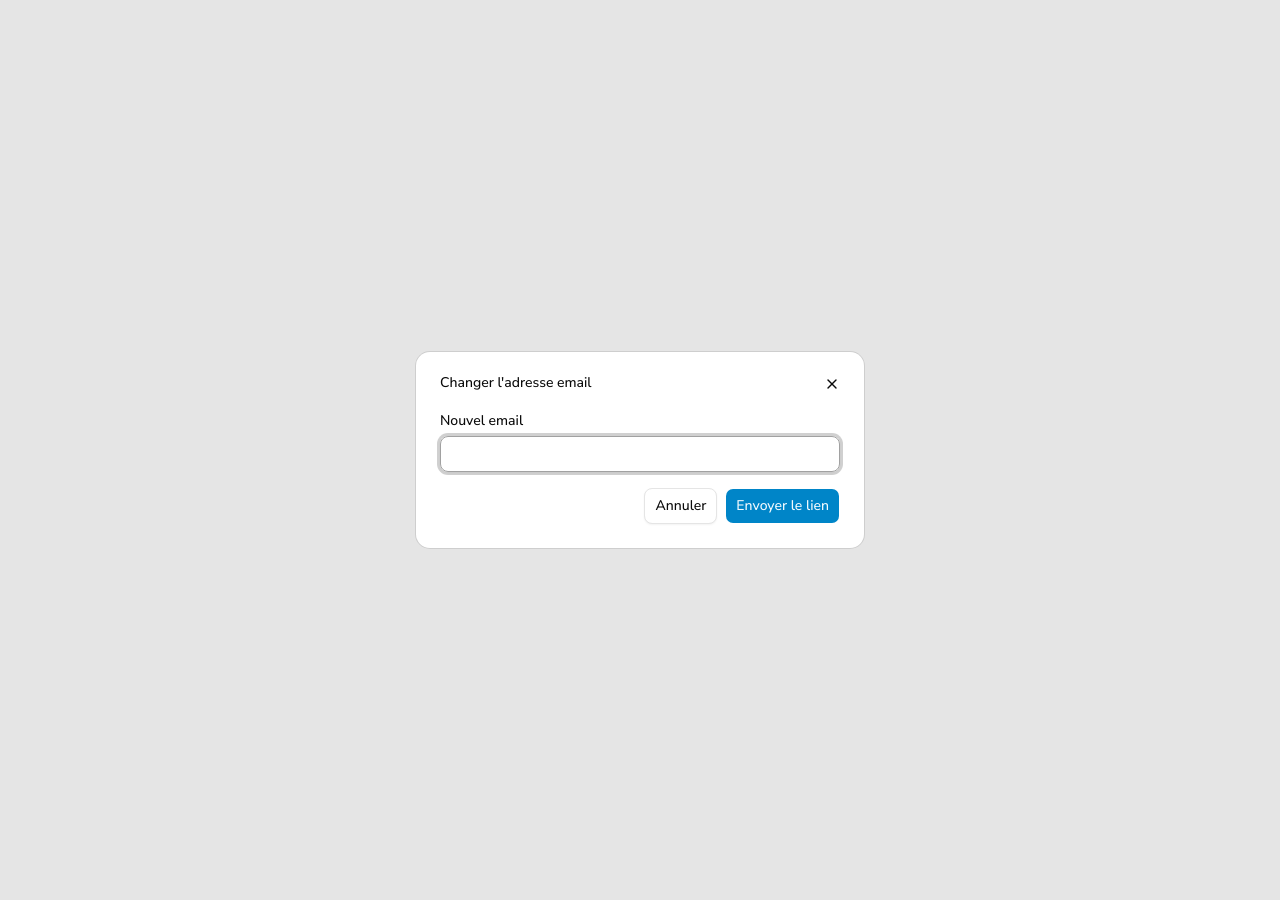
Test case: EditEmailDialog › appelle changeEmail et affiche le message de confirmation
Step 1. Type "nouveau@exemple.com" into the field labelled "Nouvel email" → (640, 454), box [440,436,840,472]
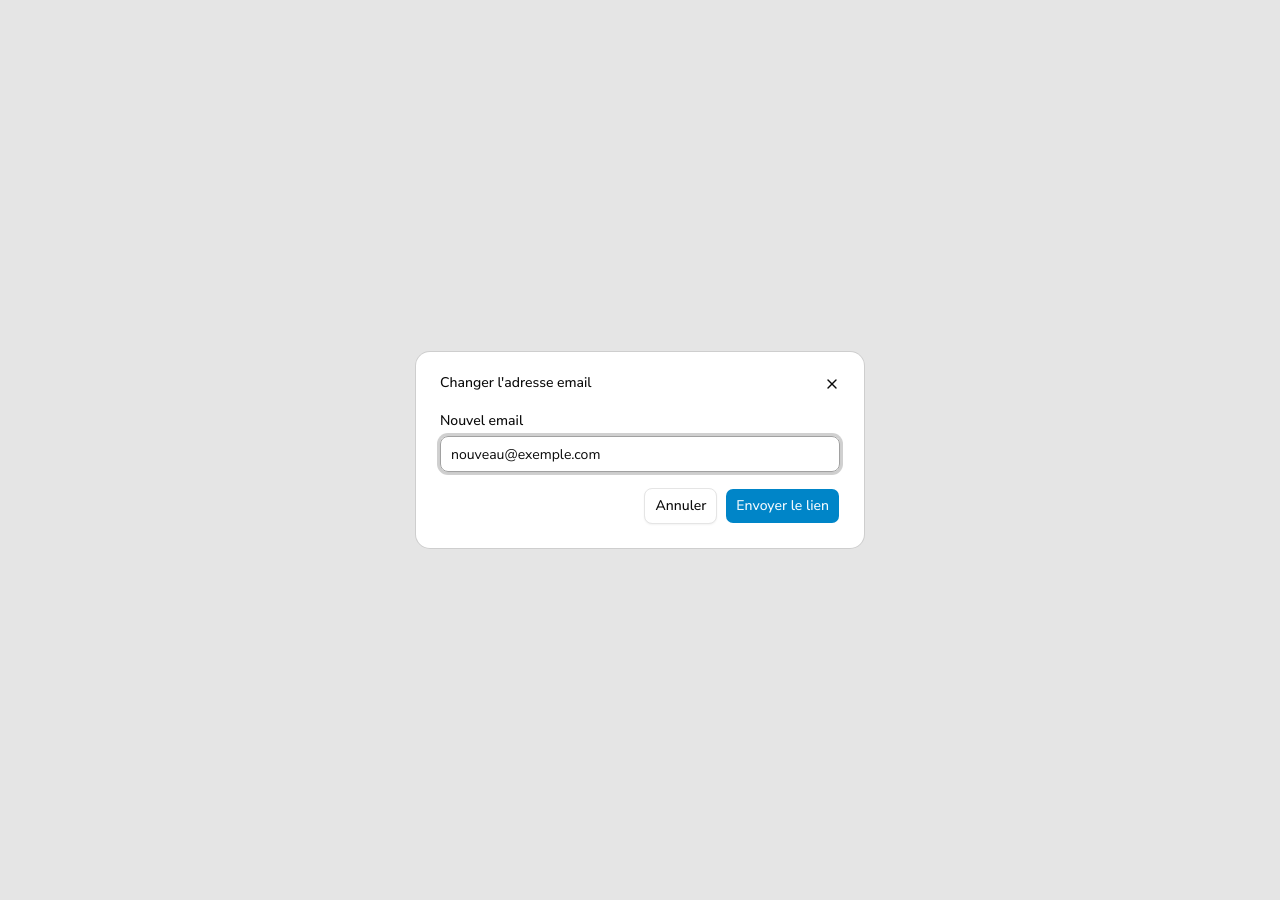
Step 2. Click the button "Envoyer le lien" → (783, 506), box [725,488,840,524]
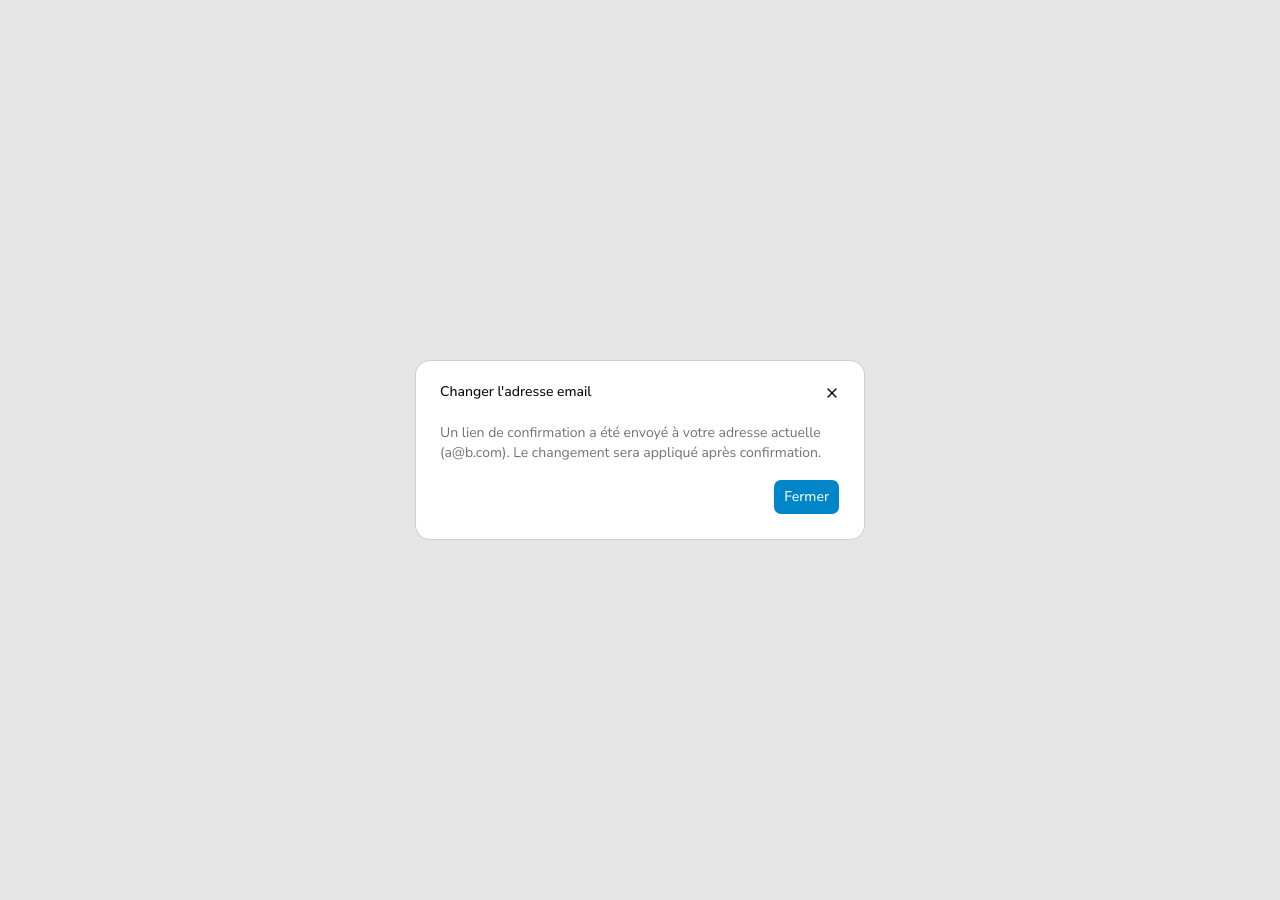
Expected: the text "lien de confirmation" is shown, [440,423,821,462]
